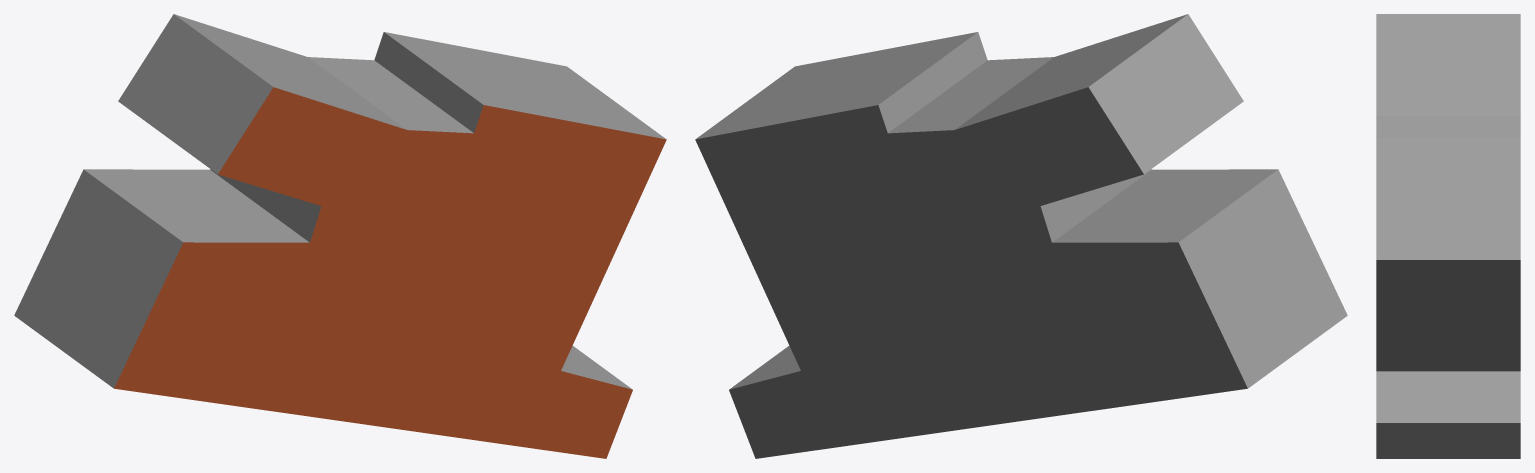
Rendered from construction_1301_assumed_A_Casa_h6m.obj.
3 views of the same model, side by side, from view 1: azimuth 30°, elevation 25°; view 2: azimuth 150°, elevation 25°; view 3: azimuth 270°, elevation 25° (orthographic). The views are drawn at different scales.
Visible parts, largest first — view 1: construction_1301_assumed_A_Casa; view 2: construction_1301_assumed_A_Casa; view 3: construction_1301_assumed_A_Casa.
Boxes of the visible parts, left/top/right/bottom form: construction_1301_assumed_A_Casa: left=14, top=14, right=666, bottom=458; construction_1301_assumed_A_Casa: left=695, top=14, right=1347, bottom=458; construction_1301_assumed_A_Casa: left=1376, top=14, right=1520, bottom=458.
Size of the model in its own units: 19.18 by 15.02 by 6.
